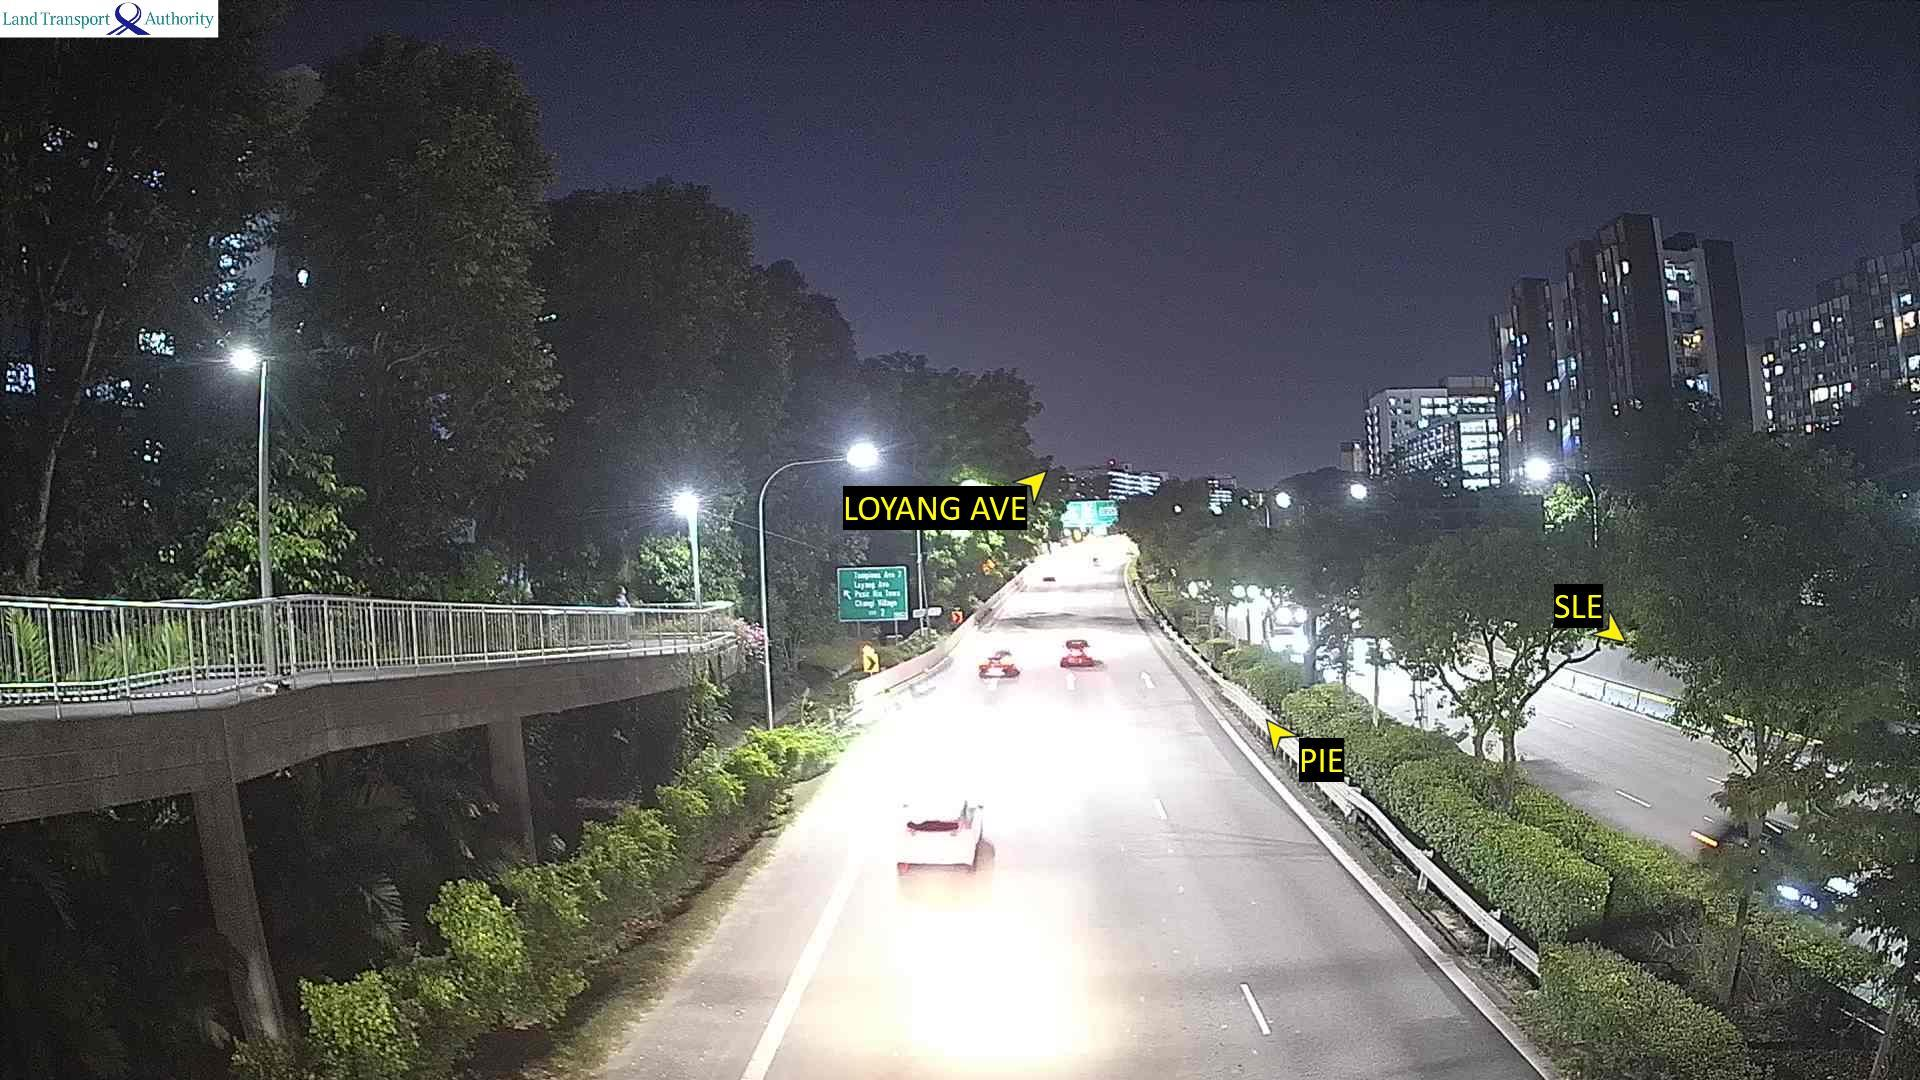cars: (895, 799, 984, 873), (977, 648, 1019, 679), (1059, 638, 1094, 667)
